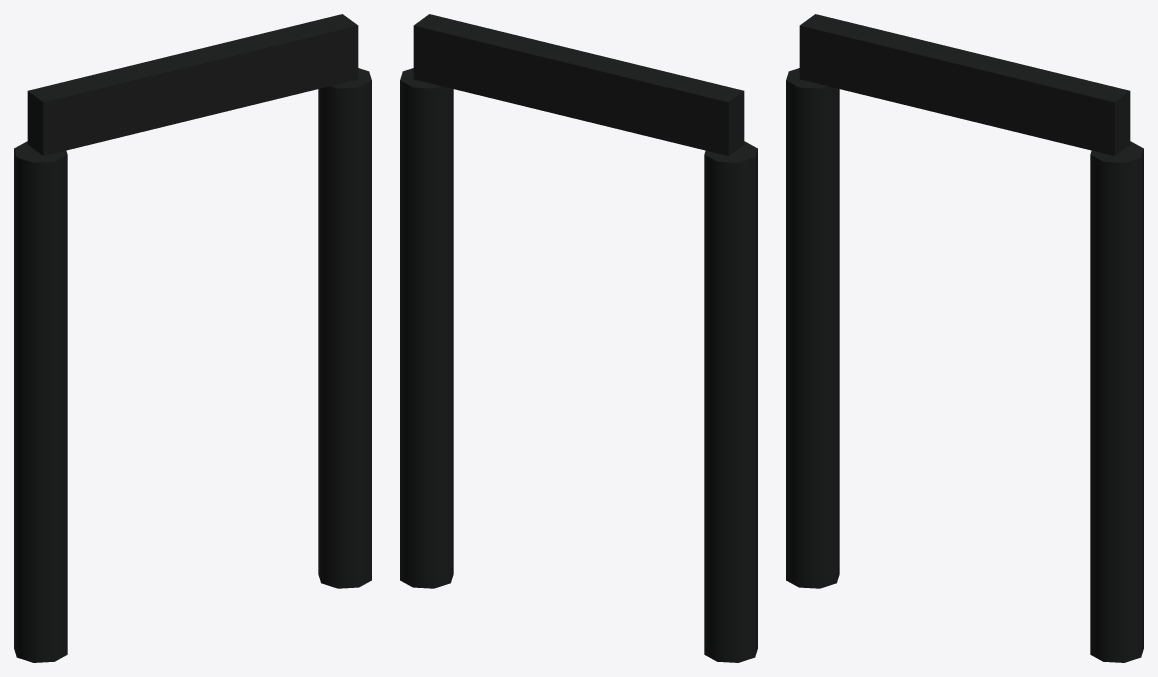
File: AMB_NK_LORD_HASHIRA2.glb
The picture shows the model from 3 angles, left to right: view 1: azimuth 30°, elevation 25°; view 2: azimuth 150°, elevation 25°; view 3: azimuth 330°, elevation 25°; orthographic projection.
Parts seen in each view (by area): view 1: BASE; view 2: BASE; view 3: BASE.
Boxes of the visible parts, x1=… form: BASE: x1=14, y1=14, x2=371, y2=662; BASE: x1=400, y1=14, x2=757, y2=662; BASE: x1=786, y1=14, x2=1143, y2=662.
Bounding box in the file's own units: 73.36 × 111 × 10.
Materials: 1 (1 with a texture image).
